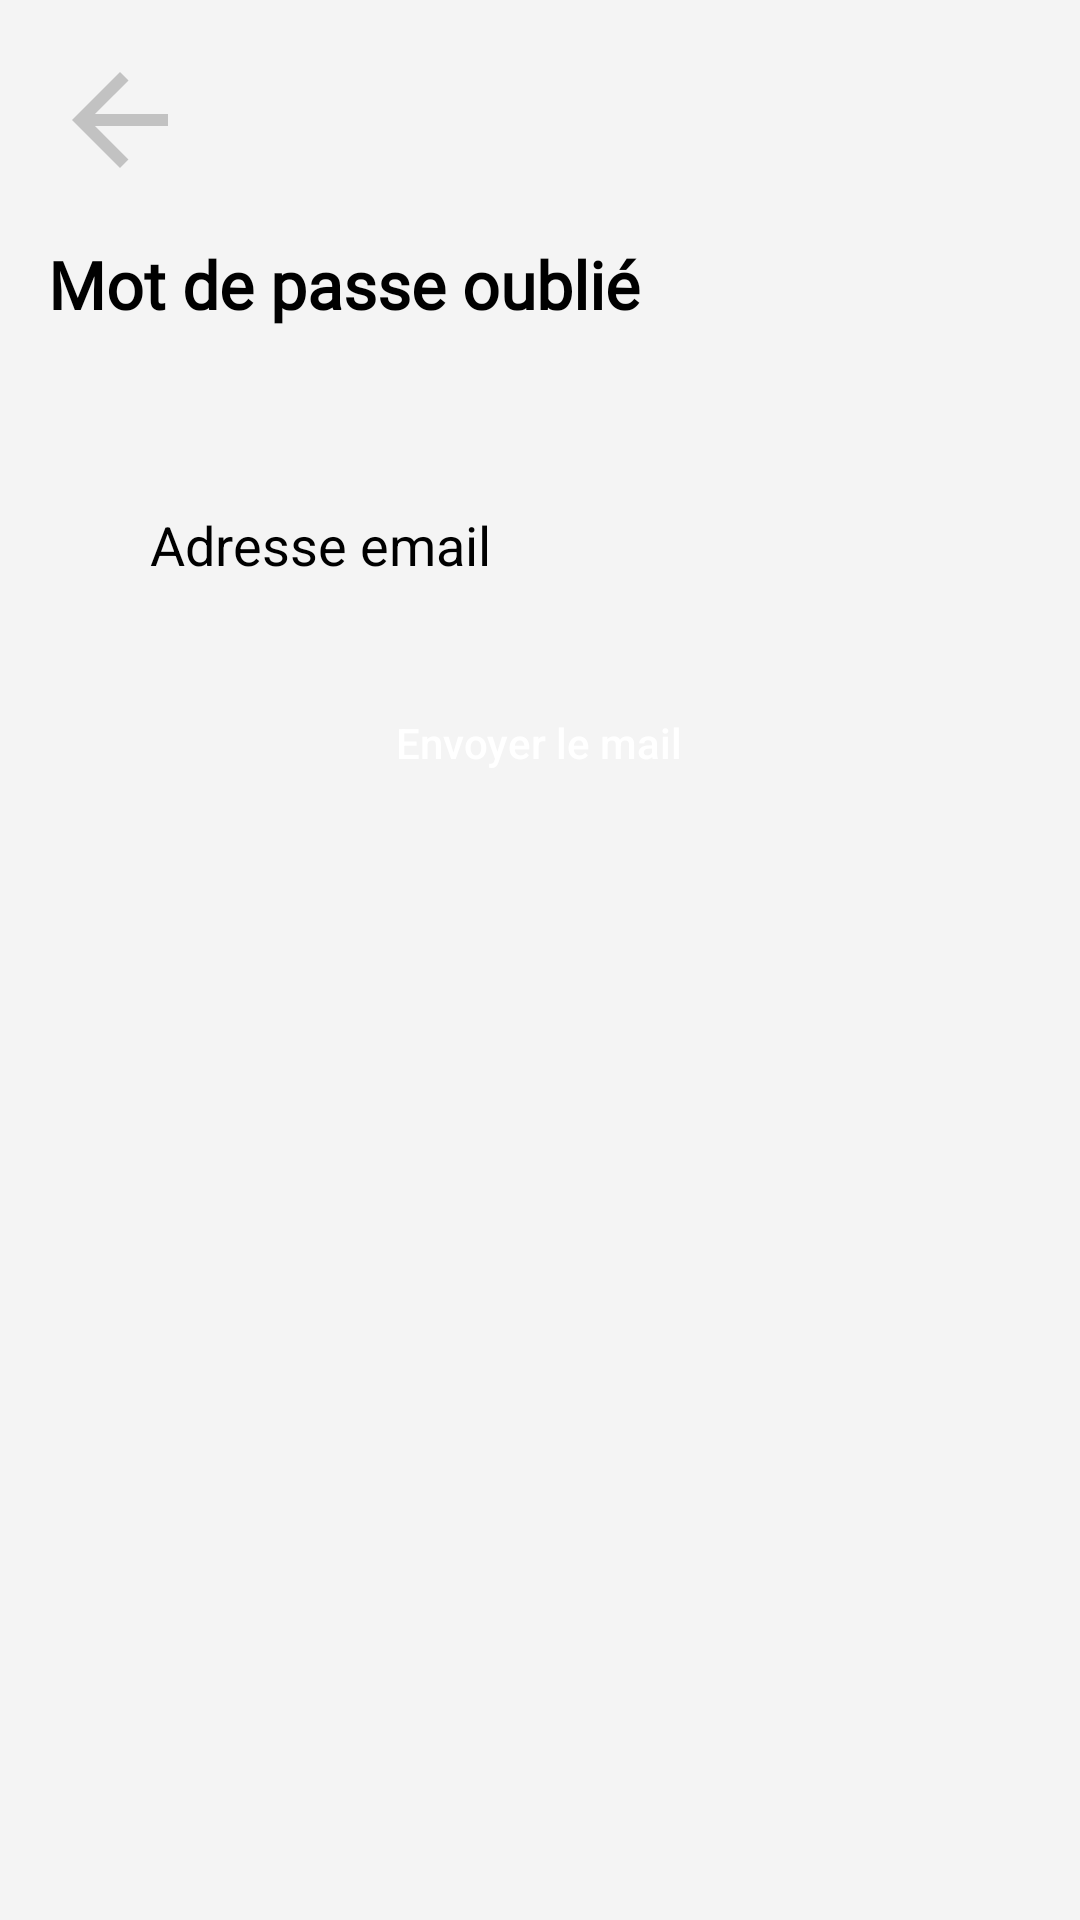

Named icons in this screenshot (1080px×1920px) and their bounding boxes, [x1, y1, x2, y2]:
arrow back: [72, 72, 168, 168]
